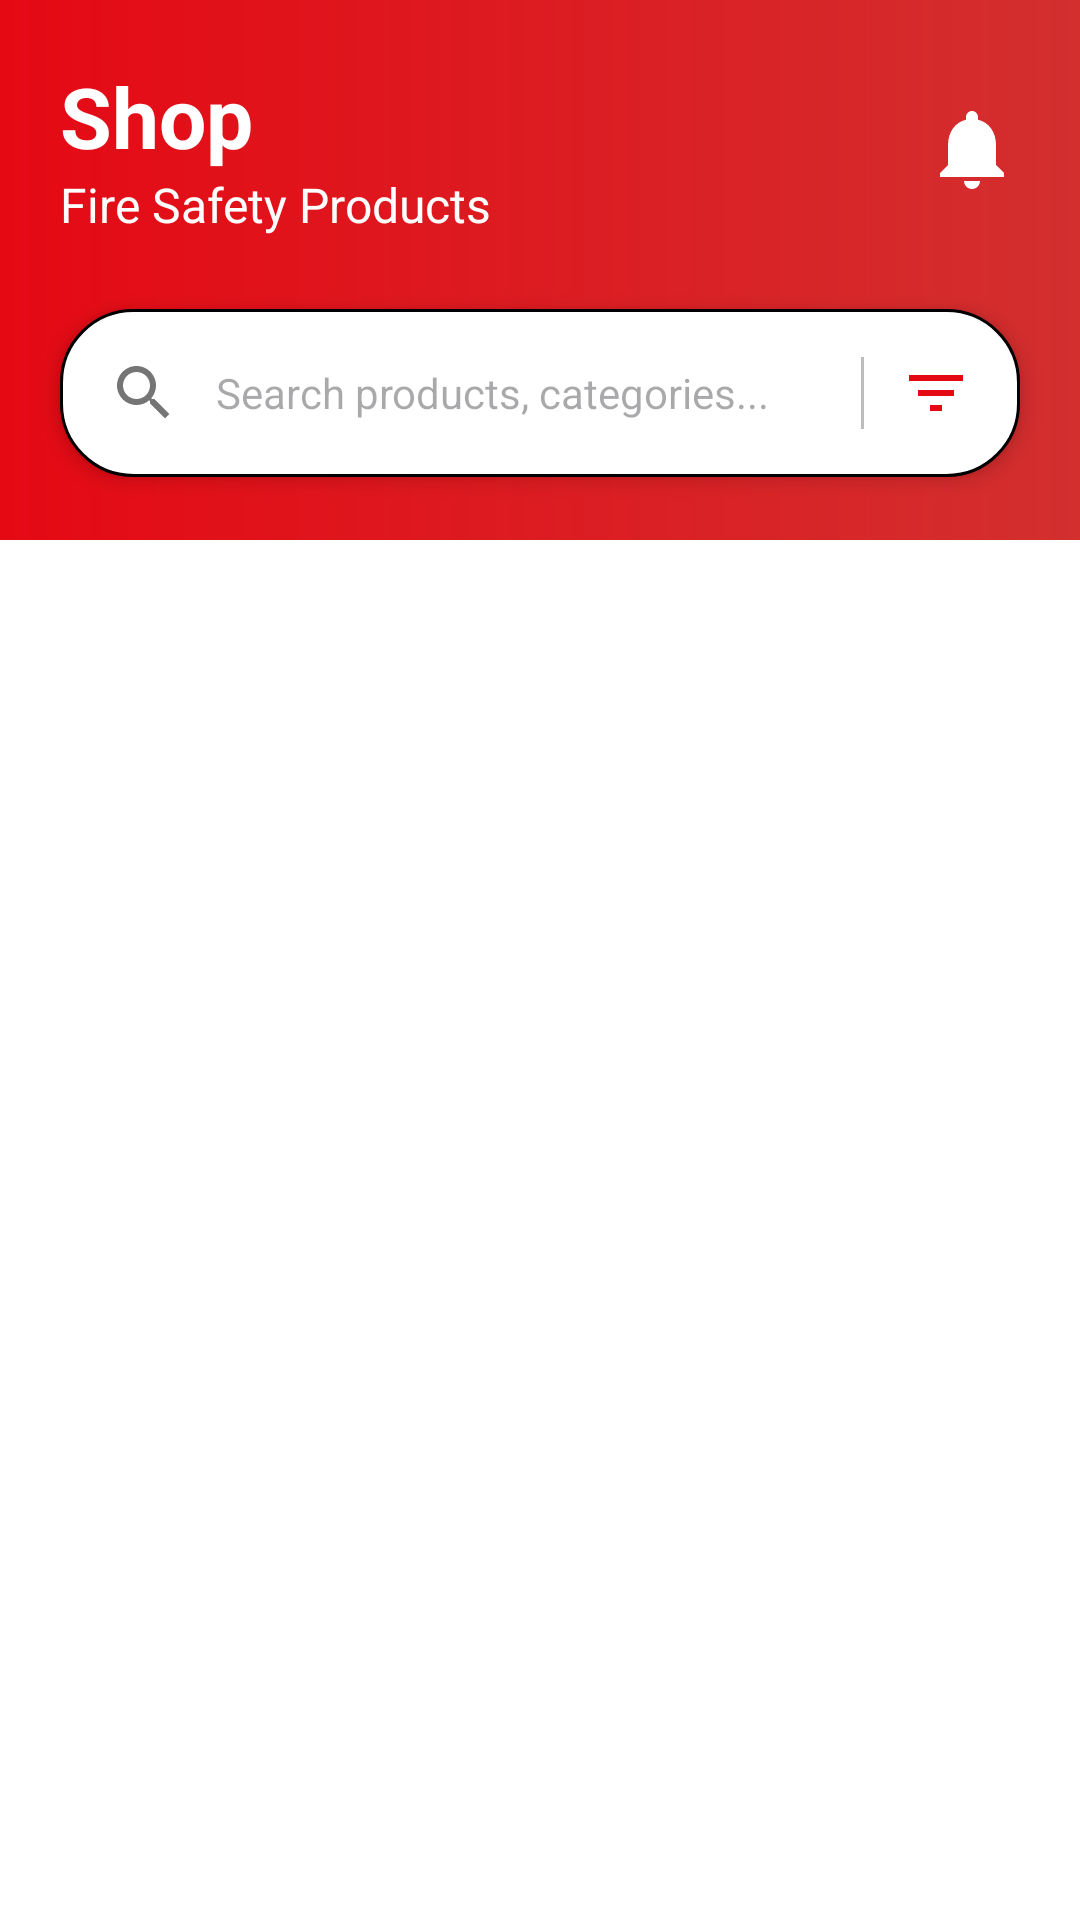

Icons on this 1080 × 1920 Android screen, each with the point to tap as [x,y]:
filter: [936,393]
Notifications: [972,150]
